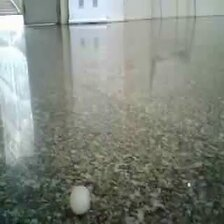w: (67, 184, 93, 215)
